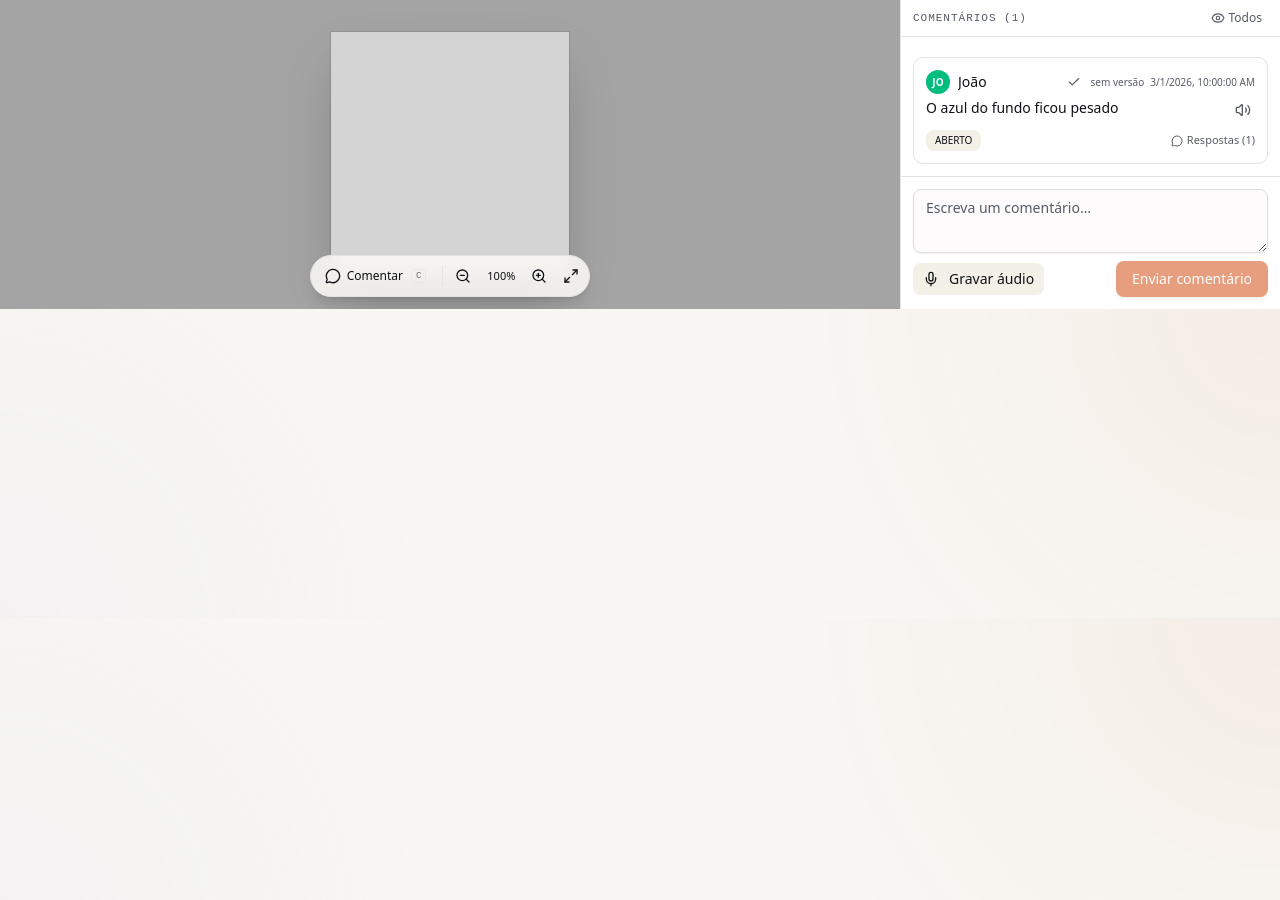
conversa: resposta é resposta, não comentário novo › mostra a resposta dentro da thread do pai
Click the button "Respostas (1)".
click(1213, 141)  # box [1171,132,1255,149]
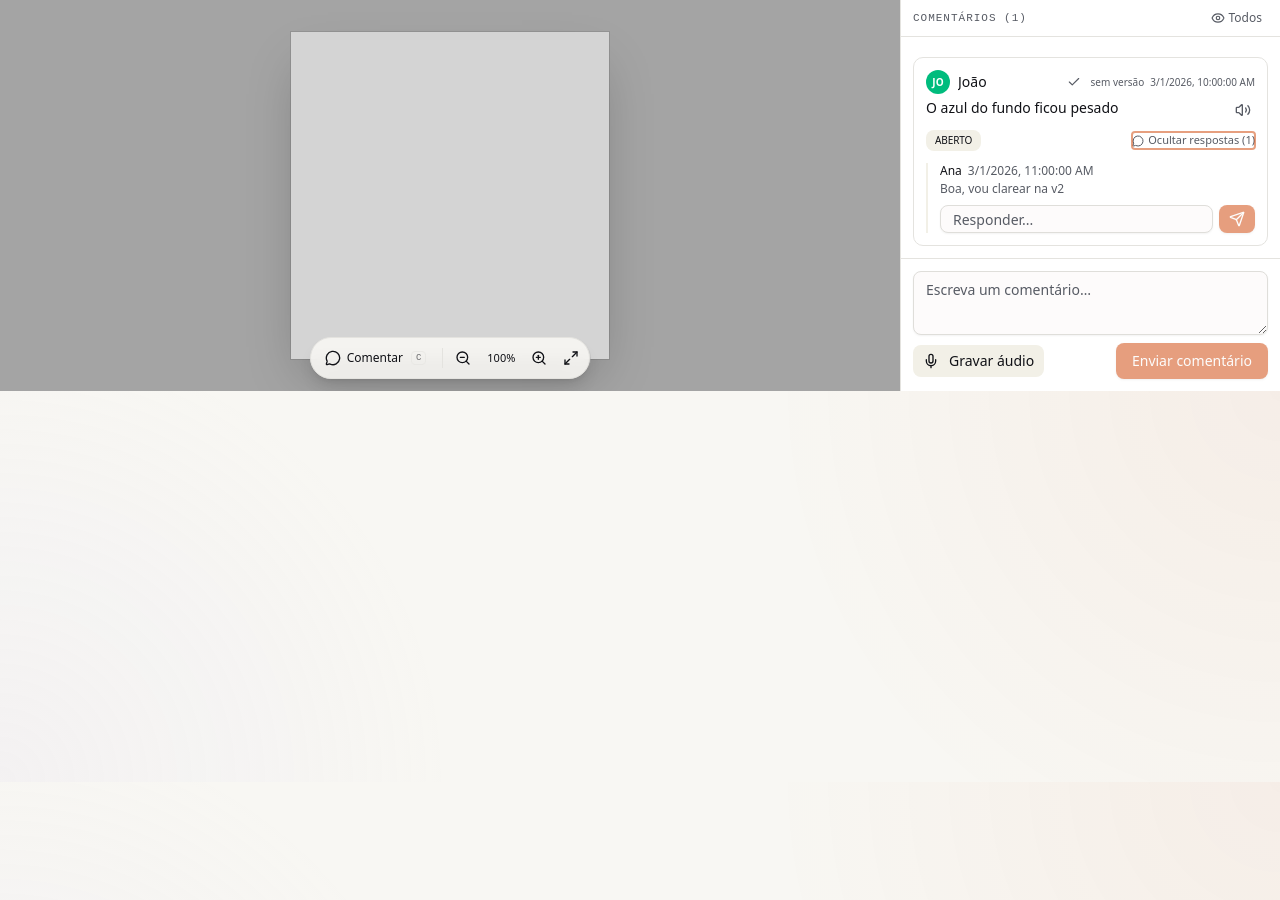
Result: the text "Boa, vou clarear na v2" is shown at [940,180,1064,197]
